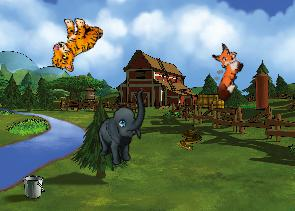elephant: (89, 88, 158, 168)
fox: (197, 41, 250, 102)
tiger: (48, 13, 104, 76)
